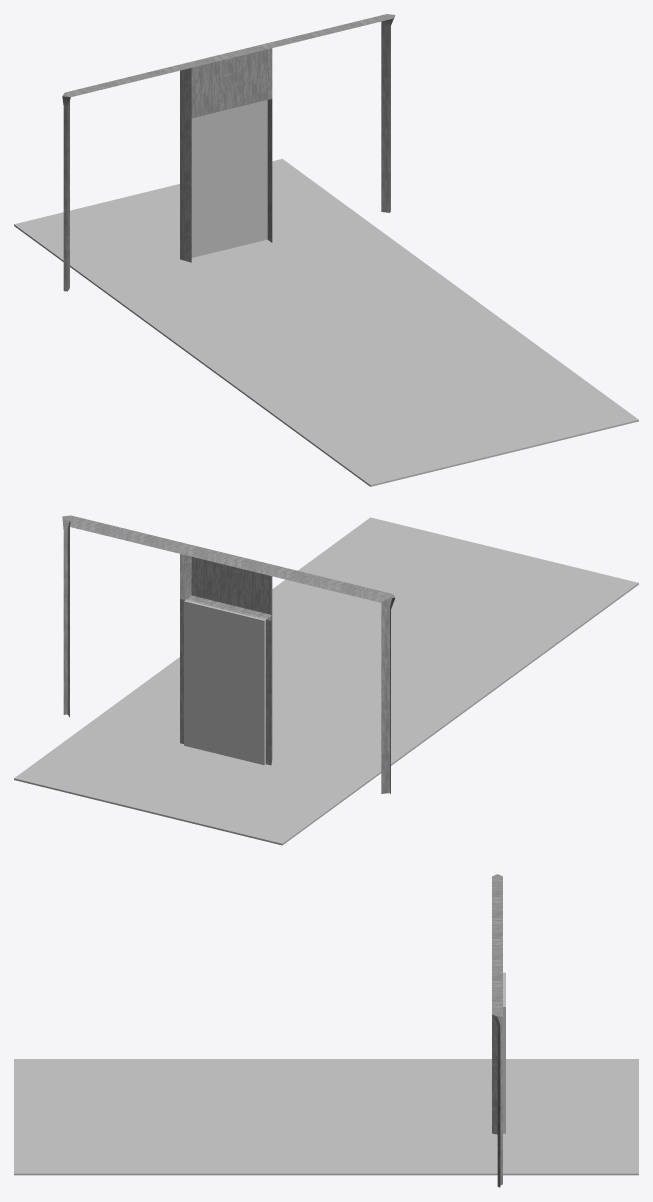
Rendered from DecorHotelModel.fbx.
3 views of the same model, one above another, from view 1: azimuth 30°, elevation 25°; view 2: azimuth 150°, elevation 25°; view 3: azimuth 270°, elevation 25° (orthographic). The views are drawn at different scales.
Parts seen in each view (by area): view 1: DecorCarpet2Mesh, DecorCarpetMesh, DecorDoorMesh, DecorBorderMesh, DecorBorder2Mesh; view 2: DecorCarpet2Mesh, DecorCarpetMesh, DecorDoorMesh, DecorBorderMesh, DecorBorder2Mesh; view 3: DecorCarpet2Mesh, DecorCarpetMesh, DecorBorder2Mesh, DecorBorderMesh, DecorDoorMesh.
Boxes of the visible parts, x1,y1,x2,y2 form: DecorCarpet2Mesh: [169, 272, 638, 486]; DecorCarpetMesh: [14, 159, 436, 338]; DecorDoorMesh: [191, 100, 267, 257]; DecorBorderMesh: [65, 14, 392, 262]; DecorBorder2Mesh: [62, 14, 395, 291]; DecorCarpet2Mesh: [169, 517, 638, 731]; DecorCarpetMesh: [14, 665, 437, 845]; DecorDoorMesh: [184, 599, 266, 765]; DecorBorderMesh: [67, 516, 391, 765]; DecorBorder2Mesh: [62, 515, 395, 794]; DecorCarpet2Mesh: [14, 1059, 367, 1175]; DecorCarpetMesh: [367, 1059, 638, 1175]; DecorBorder2Mesh: [492, 874, 502, 1187]; DecorBorderMesh: [492, 876, 502, 1134]; DecorDoorMesh: [503, 972, 505, 1133].
Bounding box in the file's own units: 6.2 × 3.5 × 11.5.
